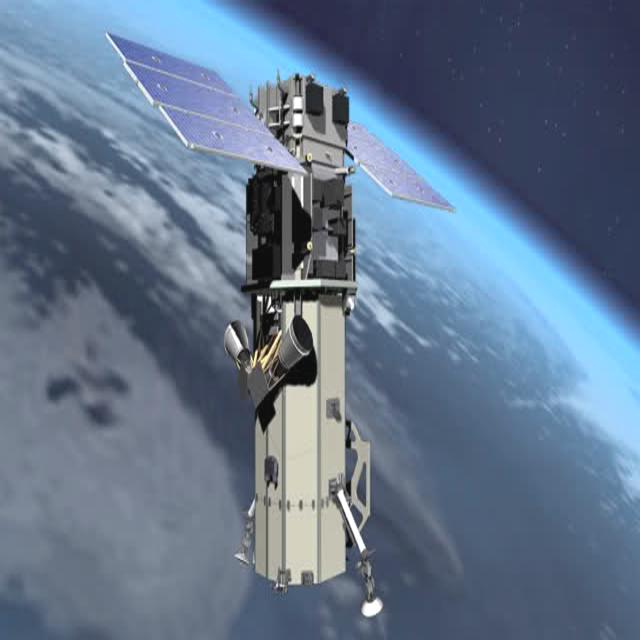satellite: (101, 15, 464, 635)
